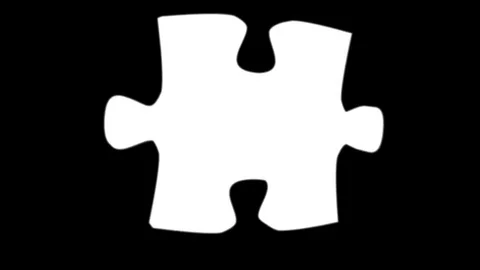puzzle piece: (95, 1, 384, 237)
